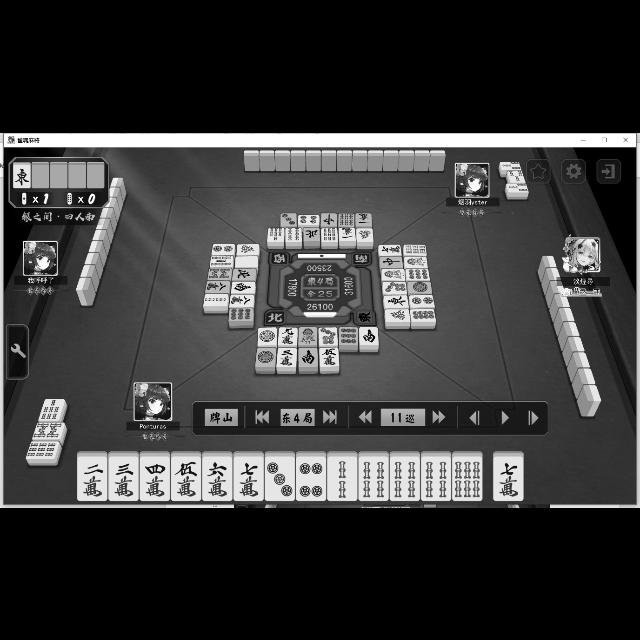1m: (356, 212, 372, 226), (338, 228, 354, 240)
1p: (256, 347, 276, 368), (406, 280, 434, 294), (258, 326, 276, 346)
1s: (298, 327, 318, 345), (380, 268, 406, 280), (404, 255, 428, 267)
2m: (76, 456, 108, 500)
2p: (408, 294, 434, 308), (210, 243, 236, 255)
2s: (326, 456, 358, 500), (204, 292, 228, 306)
3m: (109, 456, 139, 500), (278, 347, 296, 368)
3p: (265, 456, 295, 500), (281, 212, 297, 226)
3s: (508, 182, 530, 192), (508, 170, 524, 182), (499, 160, 521, 168)
4m: (140, 457, 170, 501)
4p: (296, 456, 326, 500), (298, 213, 320, 224)
4s: (421, 456, 452, 500), (358, 456, 388, 500), (390, 456, 420, 500), (286, 226, 302, 242)
5m: (170, 456, 202, 500), (318, 346, 339, 366)
5s: (208, 255, 234, 267)
6m: (203, 456, 233, 500)
6s: (452, 456, 482, 502), (338, 213, 356, 227)
7m: (234, 457, 264, 501), (494, 456, 524, 499), (378, 243, 402, 254)
7p: (381, 280, 407, 294), (320, 327, 338, 345)
7s: (37, 398, 67, 420), (266, 226, 284, 242)
8m: (229, 294, 255, 306), (205, 280, 231, 292)
8p: (411, 308, 437, 320)
8s: (30, 422, 66, 441), (206, 266, 230, 280)
9m: (278, 326, 298, 346)
9p: (339, 326, 358, 344), (406, 268, 432, 280), (229, 308, 253, 320)
9s: (26, 441, 58, 459), (320, 226, 338, 242), (404, 243, 426, 255)
chun: (378, 255, 404, 267), (320, 212, 338, 226)
haku: (235, 256, 259, 266)
hatsu: (384, 309, 410, 321), (236, 242, 260, 254), (356, 227, 374, 241)
nan: (298, 348, 318, 367), (359, 326, 378, 344), (231, 280, 257, 292)
pe: (232, 268, 255, 280), (304, 226, 320, 240)
tou: (14, 163, 31, 187), (383, 295, 409, 307)
